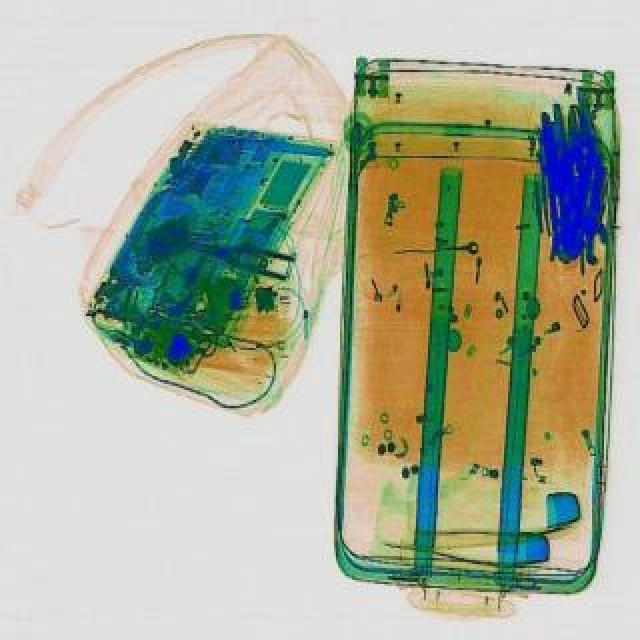wrench: (186, 230, 296, 282)
